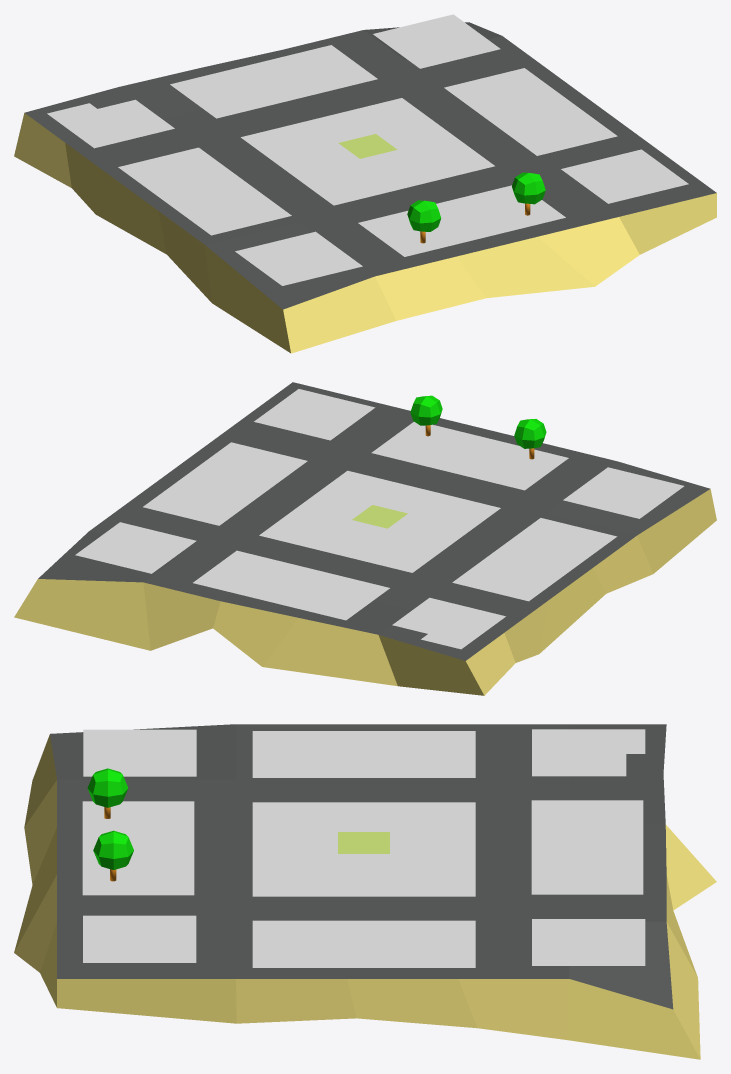
The picture shows the model from 3 angles, top to bottom: view 1: azimuth 30°, elevation 25°; view 2: azimuth 150°, elevation 25°; view 3: azimuth 270°, elevation 25°; orthographic projection. The views are drawn at different scales.
Visible parts, largest first — view 1: Cube, Plane.001, Plane.007, Plane.003, Plane.004, Plane.002, Plane.006, Plane.009, Plane.005, Plane.008, Cube.001, Cube.002 (+1 smaller); view 2: Cube, Plane.001, Plane.007, Plane.003, Plane.004, Plane.002, Plane.009, Plane.006, Plane.005, Plane.008, Cube.002, Cube.001 (+1 smaller); view 3: Cube, Plane.001, Plane.003, Plane.007, Plane.004, Plane.002, Plane.006, Plane.009, Plane.005, Plane.008, Cube.001, Cube.002 (+1 smaller).
Part boxes in pixels (bbox=[...]): Cube: bbox=[14, 22, 716, 353]; Plane.001: bbox=[241, 98, 494, 205]; Plane.007: bbox=[170, 45, 377, 118]; Plane.003: bbox=[444, 68, 617, 155]; Plane.004: bbox=[118, 147, 291, 235]; Plane.002: bbox=[358, 185, 565, 256]; Plane.006: bbox=[561, 149, 688, 203]; Plane.009: bbox=[373, 14, 500, 68]; Plane.005: bbox=[235, 231, 362, 285]; Plane.008: bbox=[47, 99, 174, 148]; Cube.001: bbox=[407, 200, 441, 231]; Cube.002: bbox=[512, 172, 545, 204]; Cube: bbox=[14, 382, 716, 695]; Plane.001: bbox=[259, 470, 500, 572]; Plane.007: bbox=[193, 550, 389, 620]; Plane.003: bbox=[143, 442, 307, 525]; Plane.004: bbox=[452, 518, 617, 601]; Plane.002: bbox=[371, 422, 568, 490]; Plane.009: bbox=[75, 522, 196, 573]; Plane.006: bbox=[254, 389, 375, 440]; Plane.005: bbox=[563, 467, 684, 518]; Plane.008: bbox=[392, 597, 505, 649]; Cube.002: bbox=[410, 395, 442, 425]; Cube.001: bbox=[514, 419, 546, 448]; Cube: bbox=[14, 724, 716, 1059]; Plane.001: bbox=[252, 802, 475, 896]; Plane.003: bbox=[252, 920, 475, 967]; Plane.007: bbox=[531, 800, 643, 894]; Plane.004: bbox=[252, 731, 475, 777]; Plane.002: bbox=[82, 801, 194, 895]; Plane.006: bbox=[83, 915, 196, 962]; Plane.009: bbox=[532, 919, 645, 965]; Plane.005: bbox=[83, 729, 196, 776]; Plane.008: bbox=[532, 729, 645, 776]; Cube.001: bbox=[87, 768, 128, 807]; Cube.002: bbox=[93, 830, 133, 869].
Bounding box in the file's own units: 11.69 × 2.35 × 12.52.
